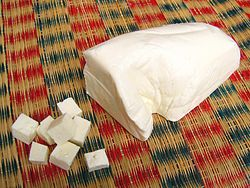cheese: (74, 13, 240, 131)
